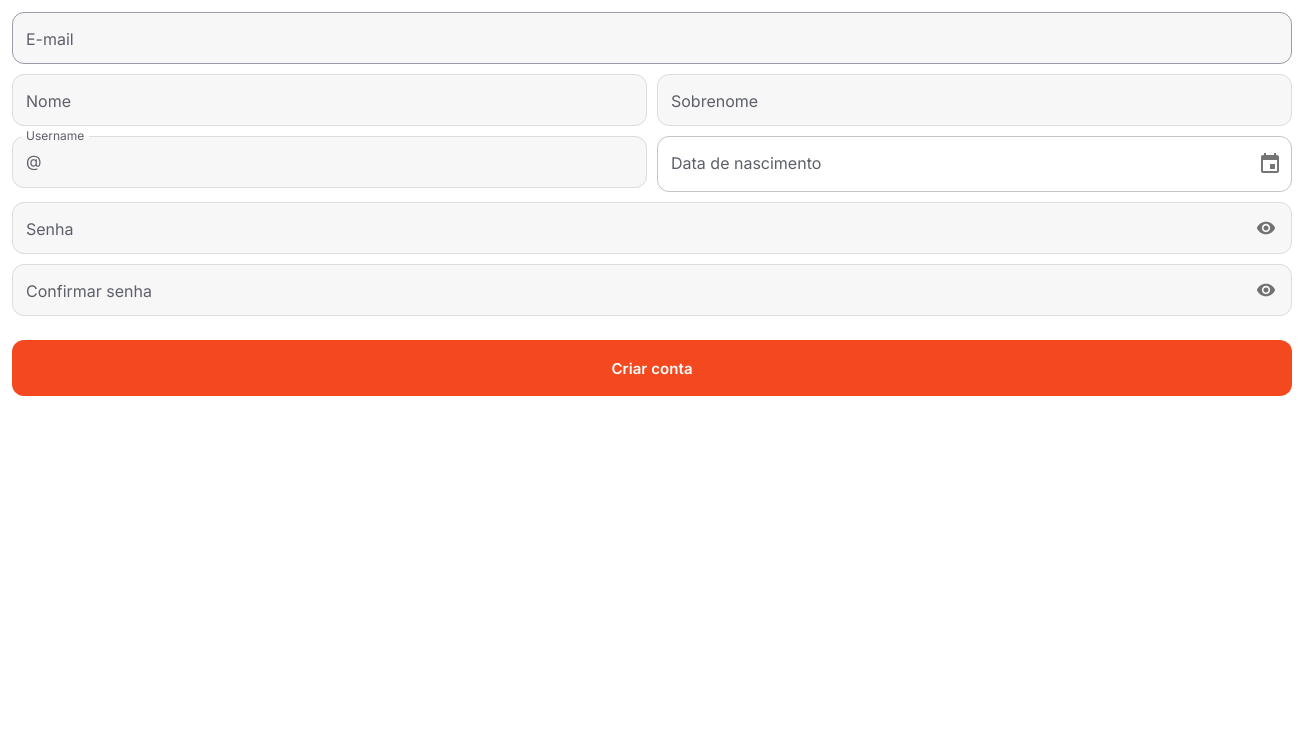
Test: CreateAccountForm › rejects a username containing a space
Type "dario reis" into the field labelled "Username" at (348, 162), box [50,136,647,188]
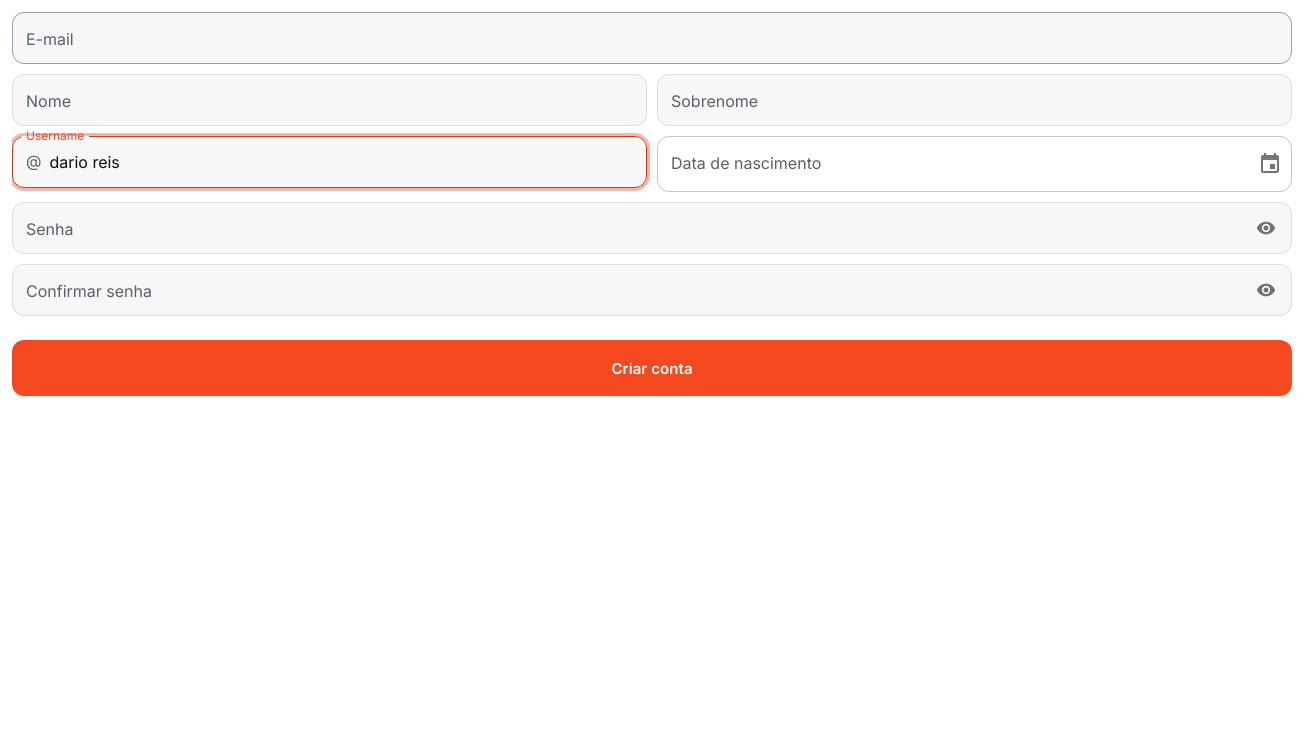
Click the button "Criar conta" at (652, 368), box [12,340,1292,396]
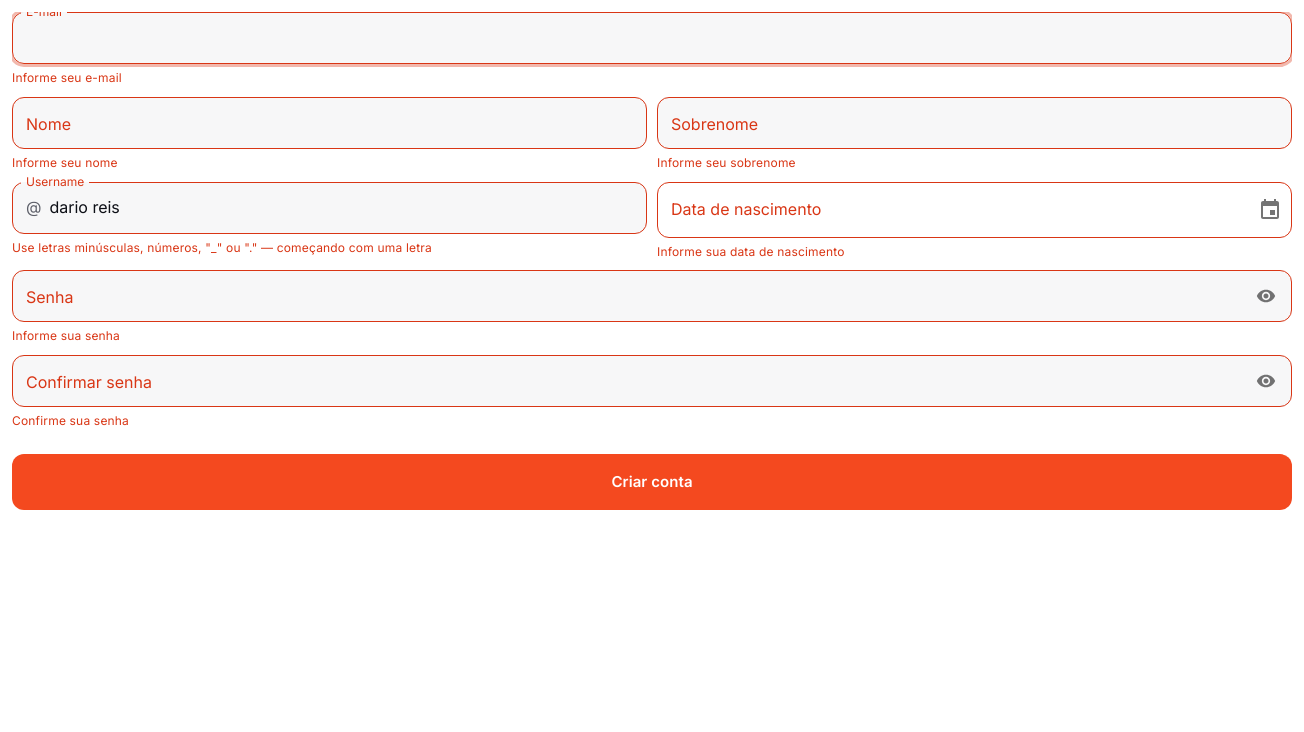
Expected: the text "Use letras minúsculas, números, \"_\" ou \".\" — começando com uma letra" is shown, [12,240,432,255]
